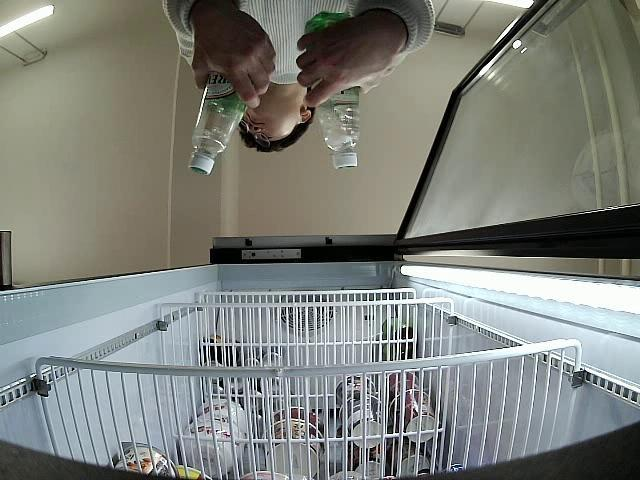18_trevi: (305, 11, 362, 170), (188, 67, 248, 177)
